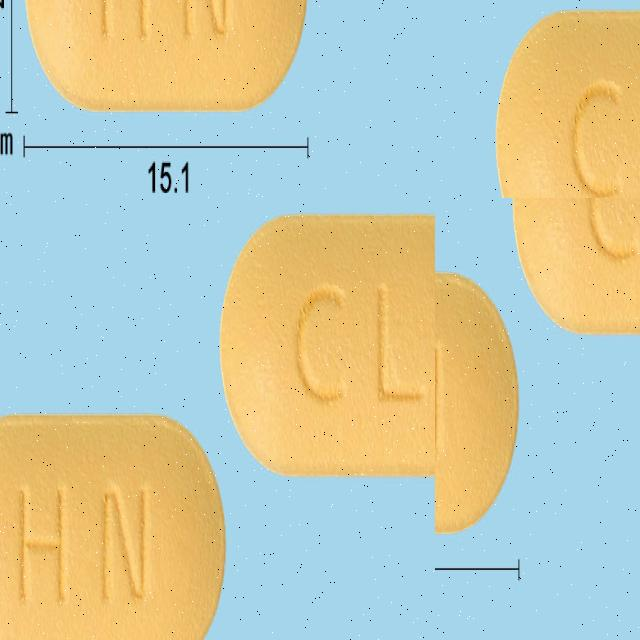Clarithromycin Tab- Reyon: (223, 220, 435, 486), (0, 416, 223, 640)
Cyclin: (435, 266, 520, 531), (511, 198, 640, 339)
Descovy -25mg: (22, 0, 309, 113)
